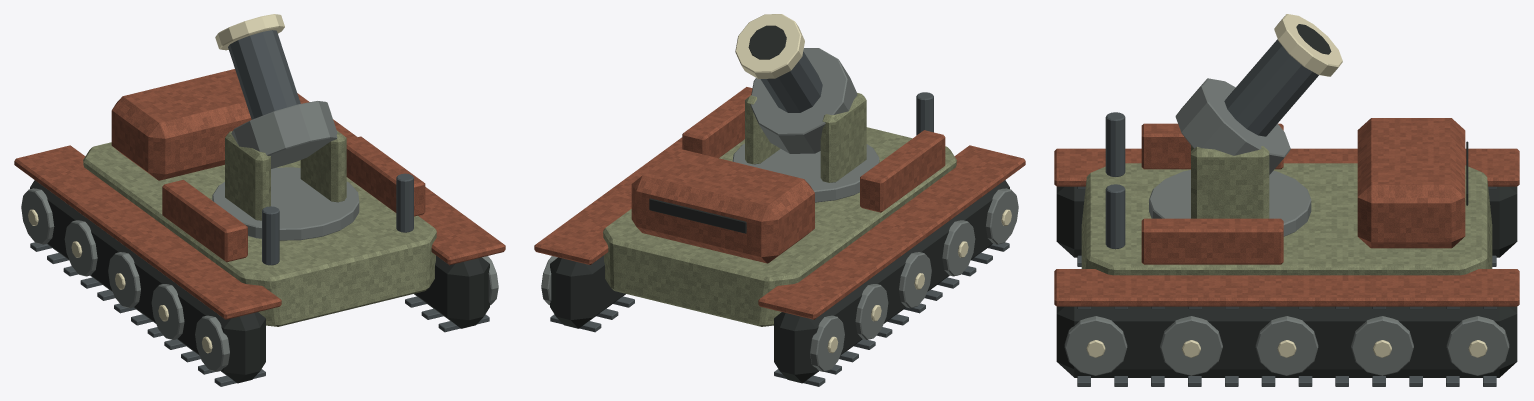
3 views of the same model, side by side, from view 1: azimuth 30°, elevation 25°; view 2: azimuth 150°, elevation 25°; view 3: azimuth 270°, elevation 25° (orthographic). The views are drawn at different scales.
Parts seen in each view (by area): view 1: ST2-E03_Mesh, Track_L_Mesh, TurretYaw_Mesh, BarrelRecoil_Mesh, Track_R_Mesh; view 2: ST2-E03_Mesh, Track_L_Mesh, BarrelRecoil_Mesh, TurretYaw_Mesh, Track_R_Mesh; view 3: ST2-E03_Mesh, Track_R_Mesh, BarrelRecoil_Mesh, TurretYaw_Mesh, Track_L_Mesh.
Boxes of the visible parts, <box> form: ST2-E03_Mesh: <box>14,69,505,326</box>; Track_L_Mesh: <box>21,180,265,386</box>; TurretYaw_Mesh: <box>212,130,359,240</box>; BarrelRecoil_Mesh: <box>215,14,337,168</box>; Track_R_Mesh: <box>405,255,498,332</box>; ST2-E03_Mesh: <box>534,87,1025,326</box>; Track_L_Mesh: <box>774,180,1018,386</box>; BarrelRecoil_Mesh: <box>735,14,857,153</box>; TurretYaw_Mesh: <box>732,93,879,202</box>; Track_R_Mesh: <box>541,255,634,332</box>; ST2-E03_Mesh: <box>1054,112,1519,306</box>; Track_R_Mesh: <box>1056,306,1517,386</box>; BarrelRecoil_Mesh: <box>1175,14,1342,174</box>; TurretYaw_Mesh: <box>1149,145,1311,236</box>; Track_L_Mesh: <box>1056,186,1517,266</box>.
Bounding box in the file's own units: 3.66 × 3.33 × 4.75.
6 materials, 2 textured.
